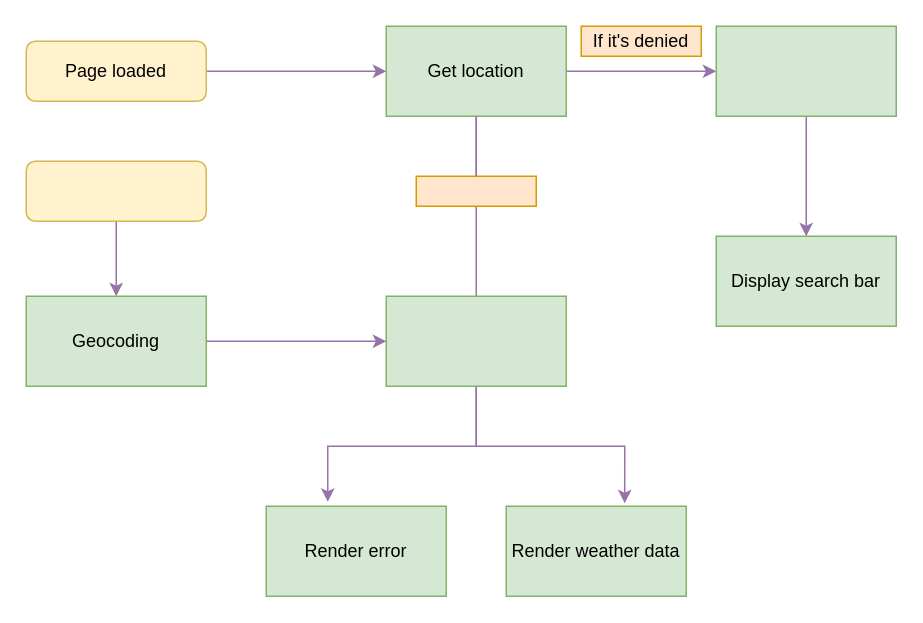
Some shapes in this 923 by 623 pixel diagram are drawn without their labels. The centre of each missing label's shape, as x and y in pixels:
"Get weather data for that location" belongs at (x=475, y=340).
"If it's allowed" belongs at (x=475, y=190).
"Render information message" belongs at (x=805, y=70).
"User searched somewhere" belongs at (x=115, y=190).
